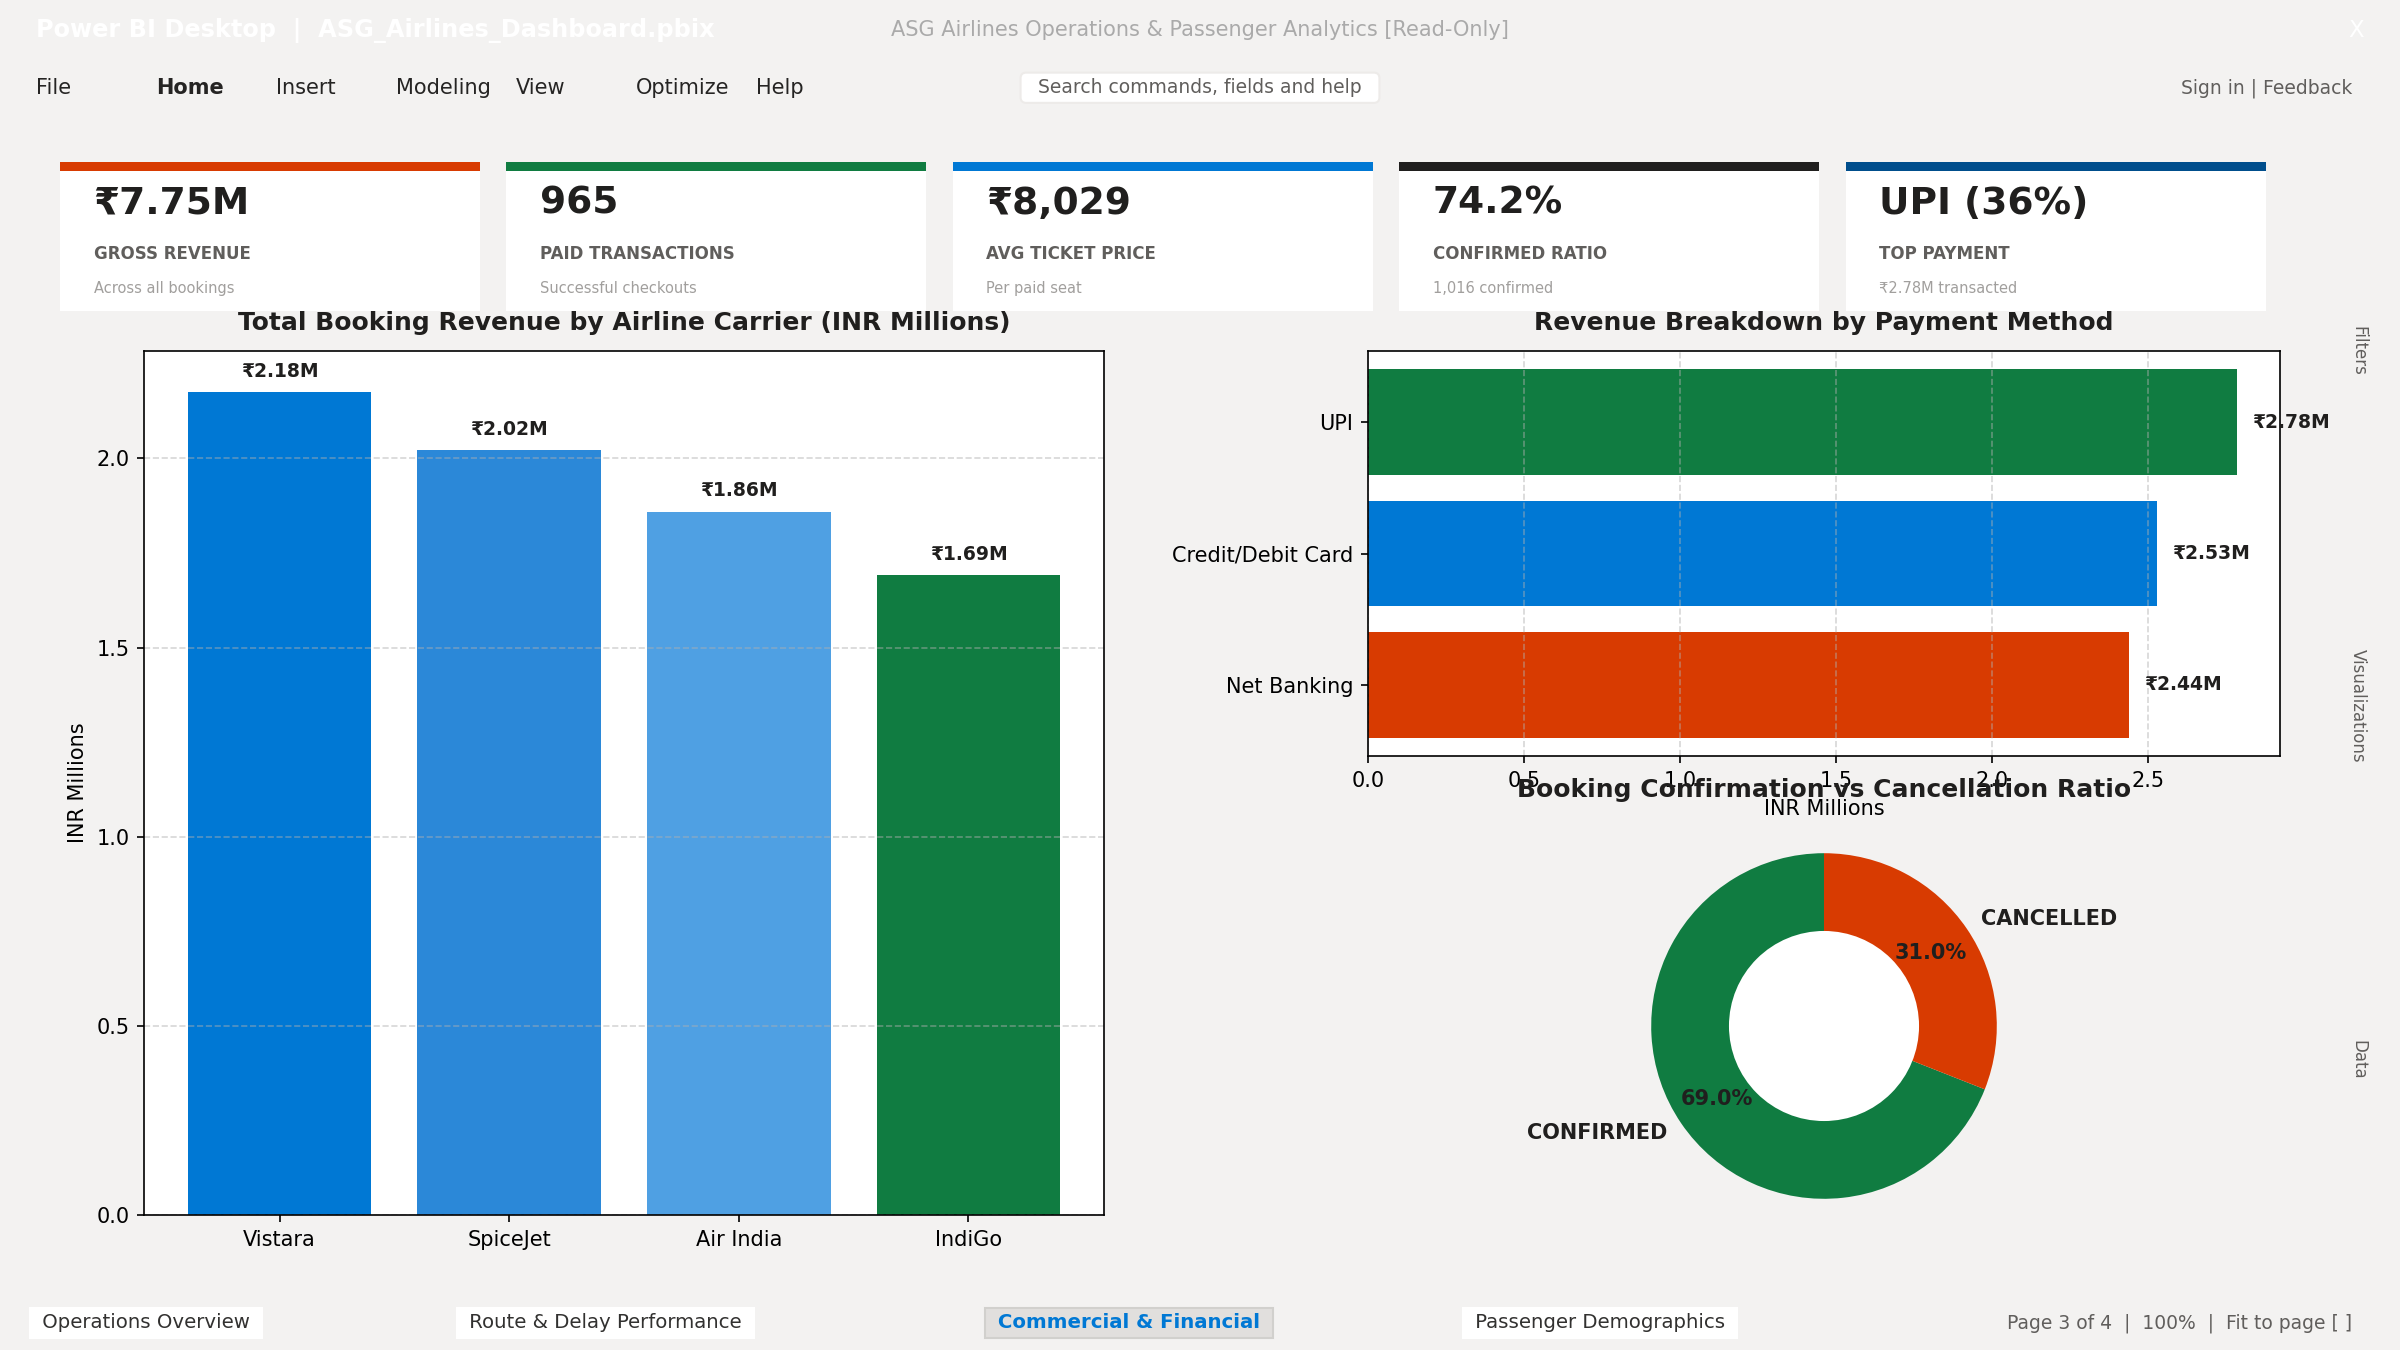

The page's visual inventory and layout, read from the dashboard file:
{"tool":"powerbi","page":{"name":"Commercial & Financial Trends","canvas":[1280,720],"ordinal":2},"visuals":[{"type":"card","fields":{"Values":["master_dataset.Total Revenue"]},"box":[20,20,380,110],"z":0},{"type":"card","fields":{"Values":["master_dataset.Total Bookings"]},"box":[420,20,380,110],"z":1000},{"type":"barChart","fields":{"Category":["master_dataset.airline"],"Y":["master_dataset.Total Revenue"]},"box":[20,150,600,340],"z":2000},{"type":"columnChart","fields":{"Category":["master_dataset.payment_method"],"Y":["master_dataset.Total Revenue"]},"box":[640,150,580,340],"z":3000},{"type":"slicer","fields":{"Values":["master_dataset.payment_method"]},"box":[20,510,380,170],"z":4000},{"type":"slicer","fields":{"Values":["master_dataset.status"]},"box":[420,510,380,170],"z":5000}]}

Visuals, with their boxes on the page's 1280x720 design canvas (x1, y1, x2, y2). These are canvas units, not pixel positions in the 2400x1350 screenshot, which may show the page scaled, cropped or inside an application window:
card - master_dataset.Total Revenue: rect(20, 20, 400, 130)
card - master_dataset.Total Bookings: rect(420, 20, 800, 130)
barChart - master_dataset.airline x master_dataset.Total Revenue: rect(20, 150, 620, 490)
columnChart - master_dataset.payment_method x master_dataset.Total Revenue: rect(640, 150, 1220, 490)
slicer - master_dataset.payment_method: rect(20, 510, 400, 680)
slicer - master_dataset.status: rect(420, 510, 800, 680)
